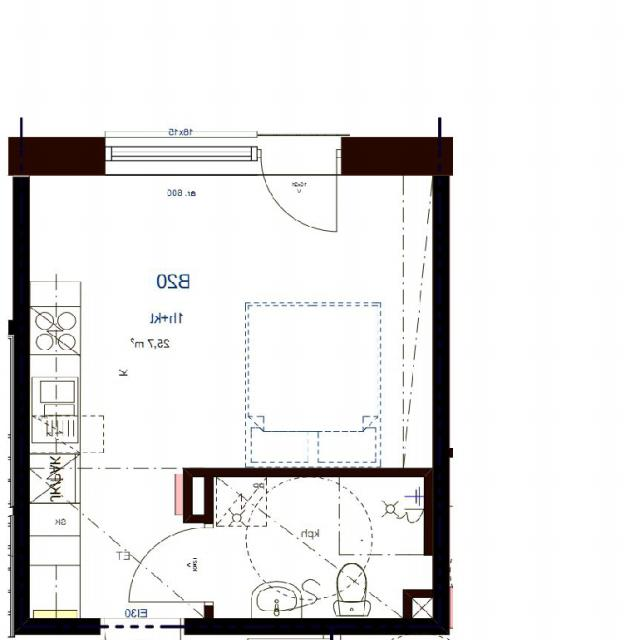door: (262, 136, 338, 248), (130, 528, 213, 600)
